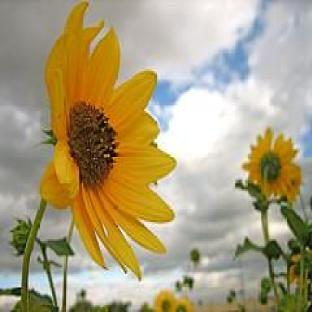sunflower: (34, 2, 177, 281)
